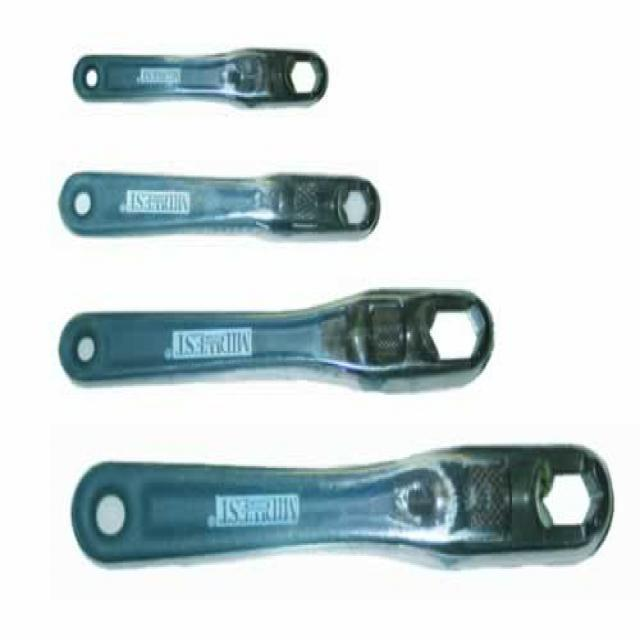wrench: (61, 432, 618, 580), (55, 282, 502, 404), (44, 160, 386, 254), (48, 40, 334, 118)
